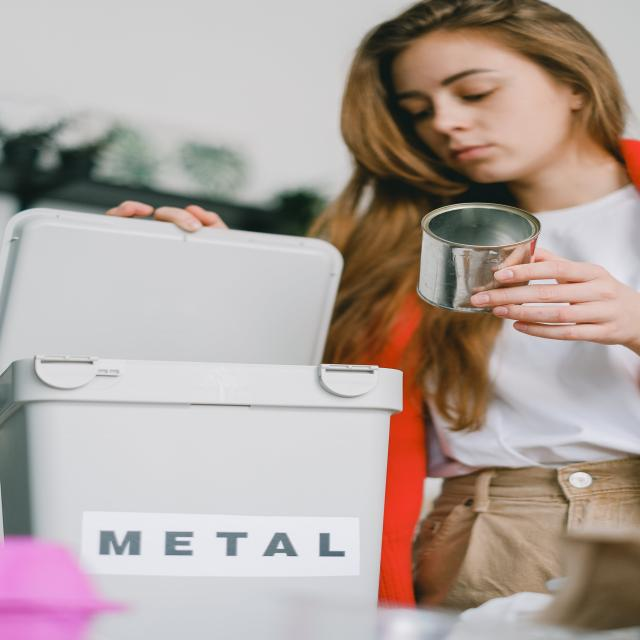metal: (417, 211, 513, 301)
